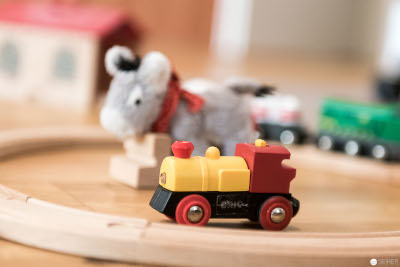brio: (147, 138, 304, 236)
